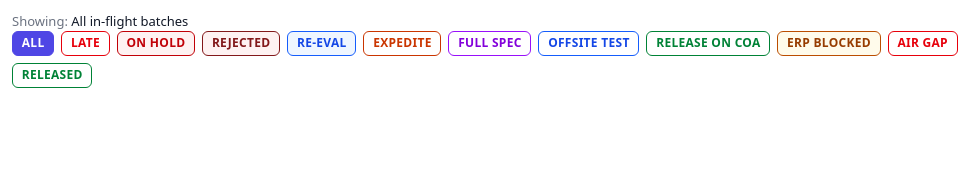
Scenario: F17-AC-05: ON HOLD + EXPEDITE are ORed in the URL, fill solid, switch ALL off, and Clear tags restores everything
Click the button with test id "tag-on_hold".
click(156, 43)  # box [117,31,195,56]
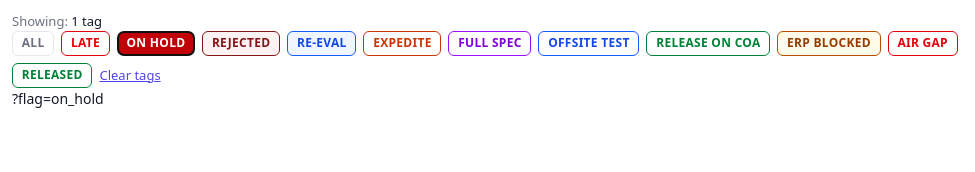
Click the button with test id "tag-expedite".
click(402, 43)  # box [363,31,441,56]
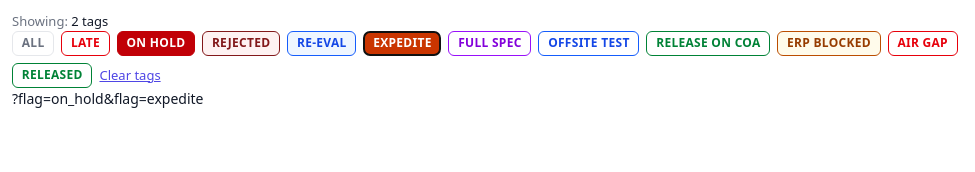
Expected: the text with test id "url" shows "flag=on_hold&flag=expedite", [12,89,204,108]
Expected: the element with test id "showing-line" reads "Showing: 2 tags", [12,12,108,30]
Click the button "Clear tags".
click(130, 75)  # box [100,66,161,84]
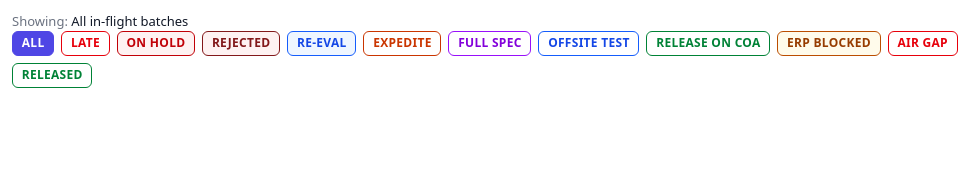
Expected: the element with test id "showing-line" reads "Showing: All in-flight batches", [12,12,188,30]
